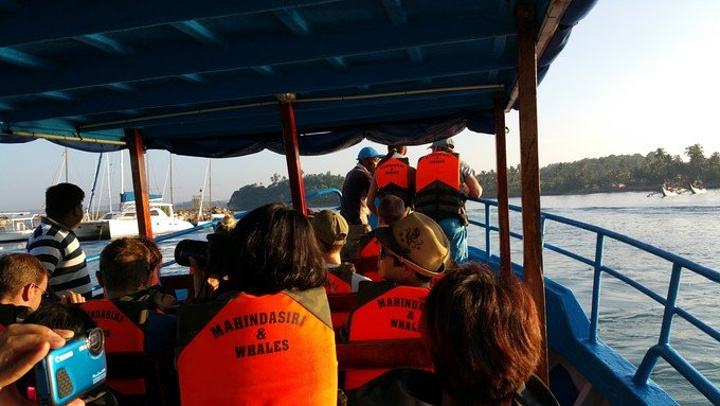other_clothes: (26, 215, 95, 300), (337, 167, 374, 224)
reflective_clothes: (170, 280, 340, 406), (342, 267, 451, 389), (87, 285, 171, 390), (417, 148, 468, 219), (371, 152, 416, 212)
